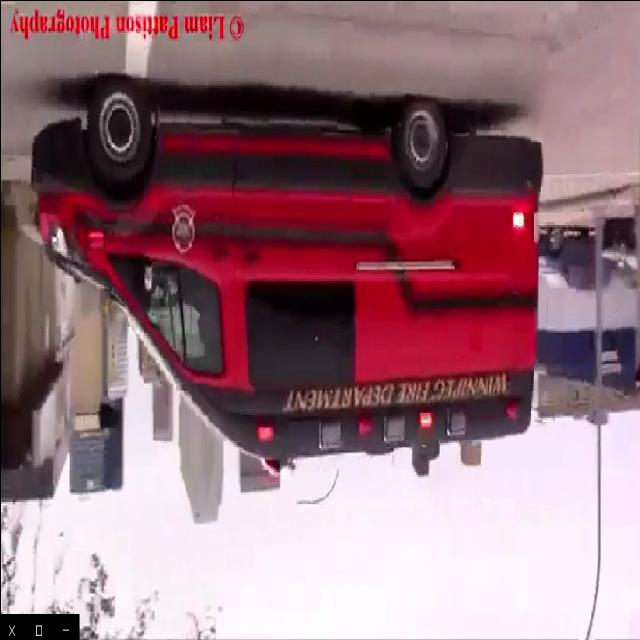emergency: (24, 64, 548, 484)
